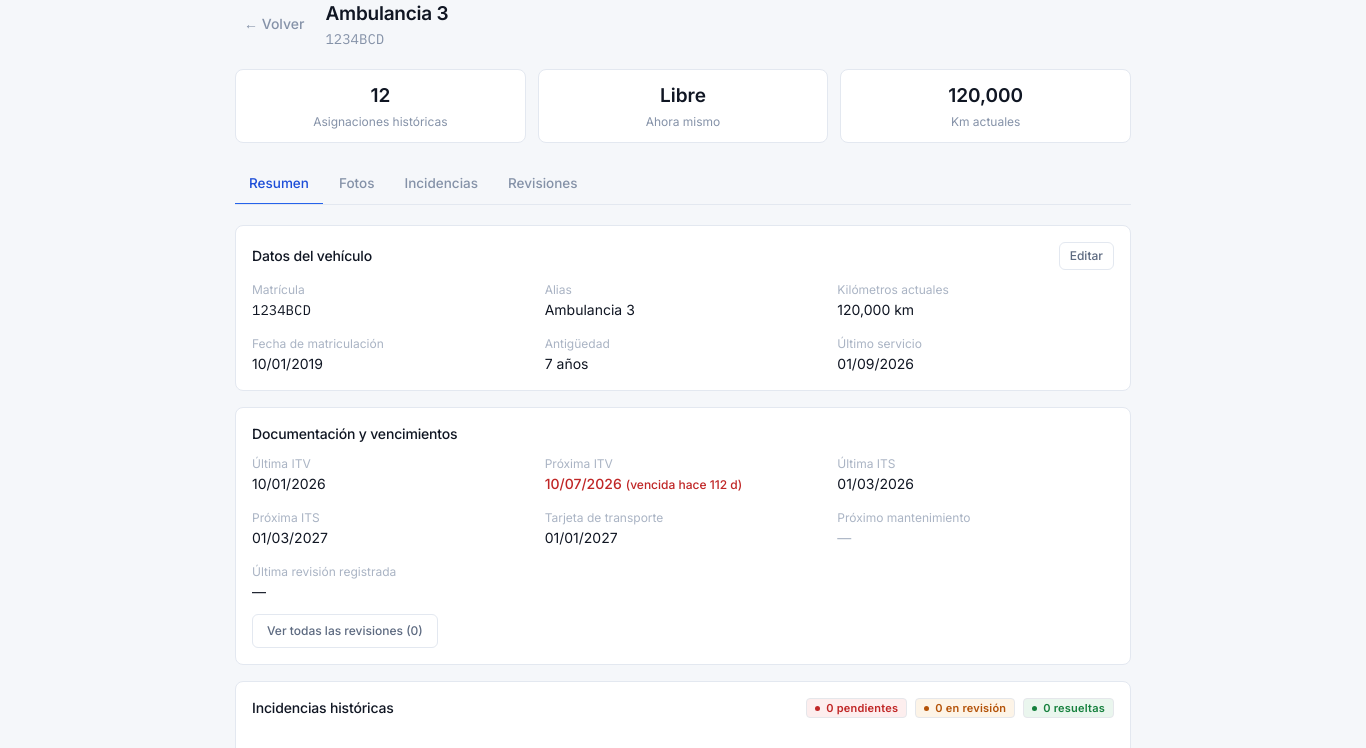
Test: VehicleHistory · edicion desde el resumen › avisa al cambiar de pestana con cambios sin guardar
The width and height of the screenshot is (1366, 748).
Expected: the heading "Ambulancia 3" is shown, [325,0,448,28]
Click the button "Editar": (1086, 256) [1059,242,1114,270]
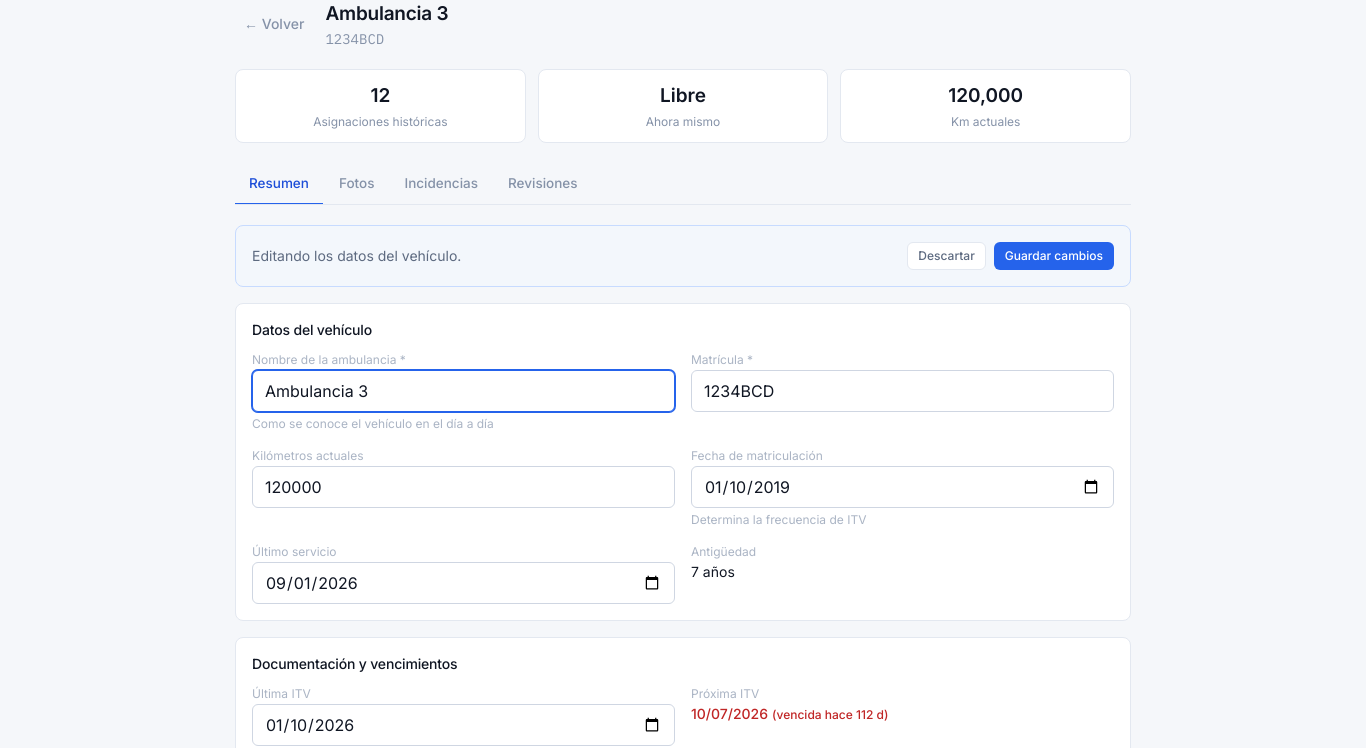
Replace the text in the field showing "Ambulancia 3" below "Nombre de la ambulancia *" with "Ambulancia 4": (464, 391) [252,370,675,412]
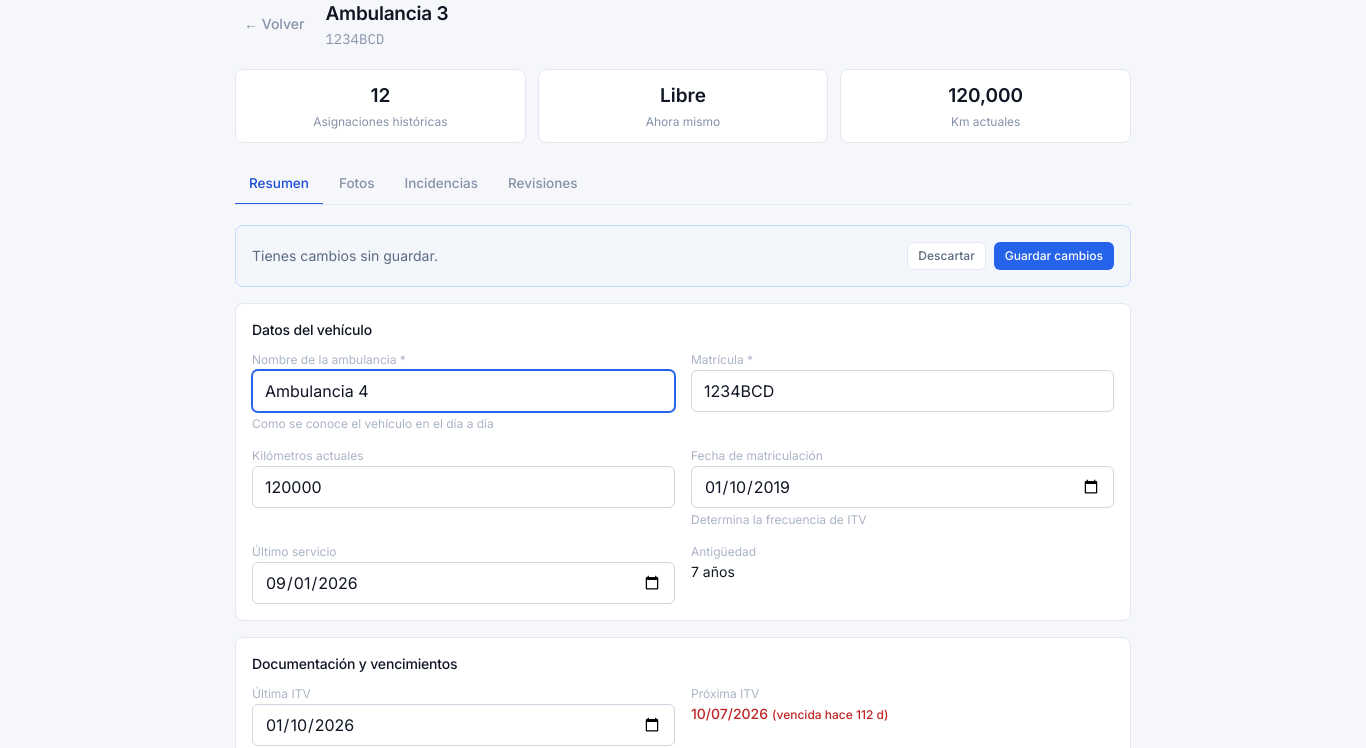
Click the button "Revisiones": (543, 184) [494,163,592,205]
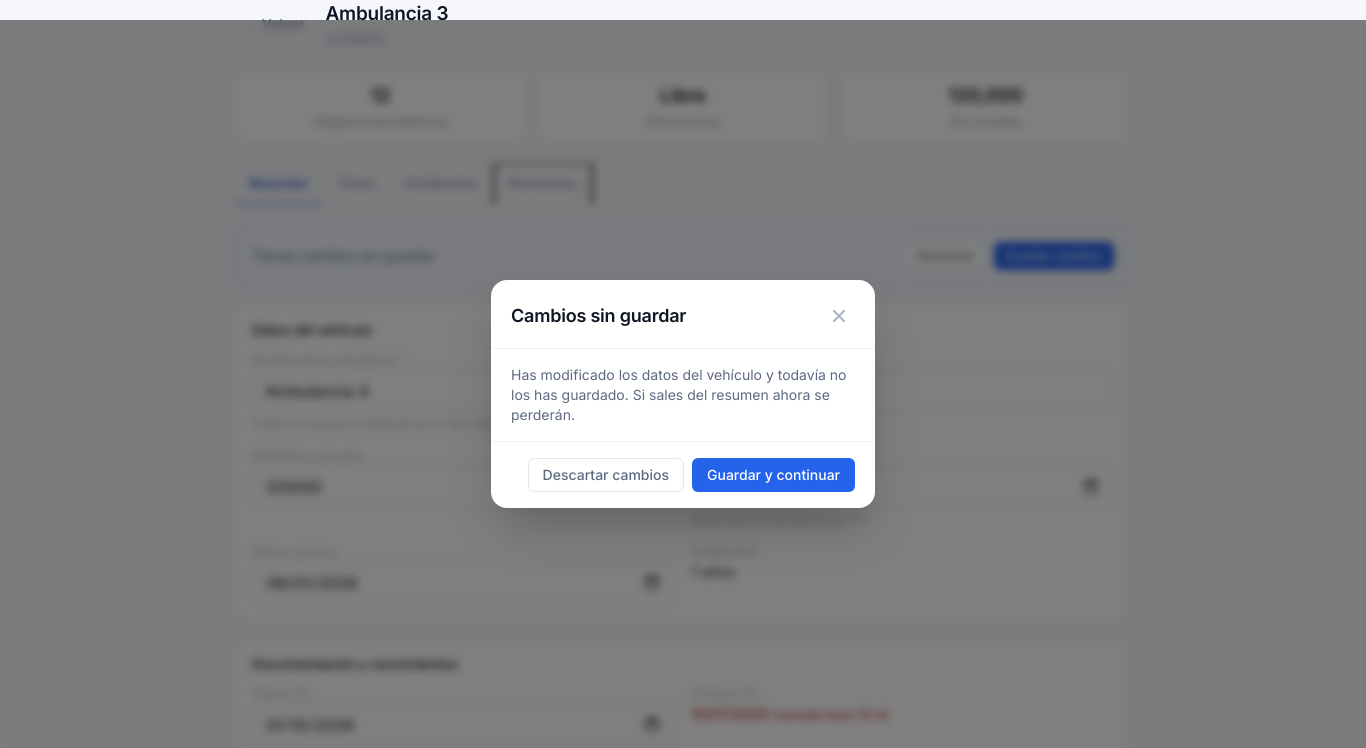
Result: the heading "Cambios sin guardar" is shown at [511,302,686,330]
